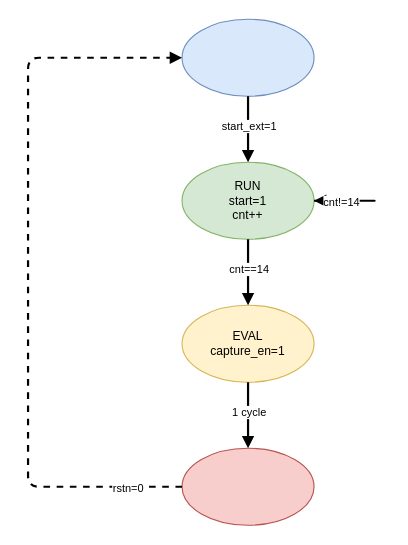
The diagram is 408 pixels wide and 545 high, and some of its shapes have lost their labels. The centre of each missing label's shape, as x and y in pixels:
"DONE done=1 scan_en=1" goes at [247,486].
"IDLE start=0 done=0" goes at [247,57].
